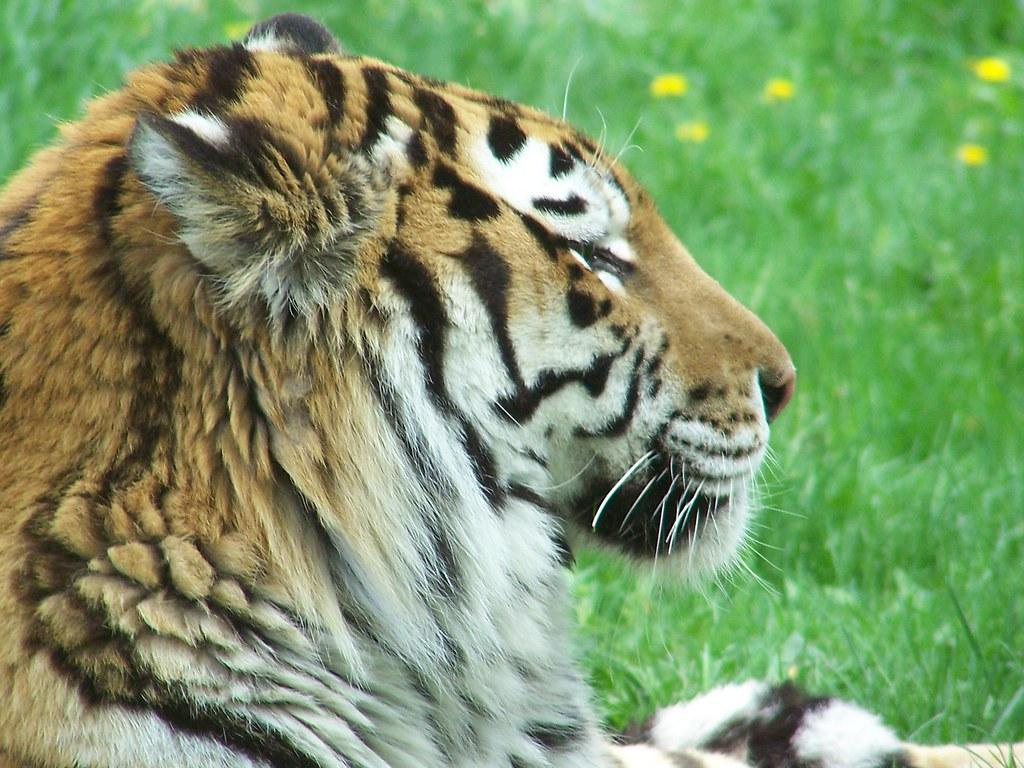tiger: (2, 11, 1020, 767)
